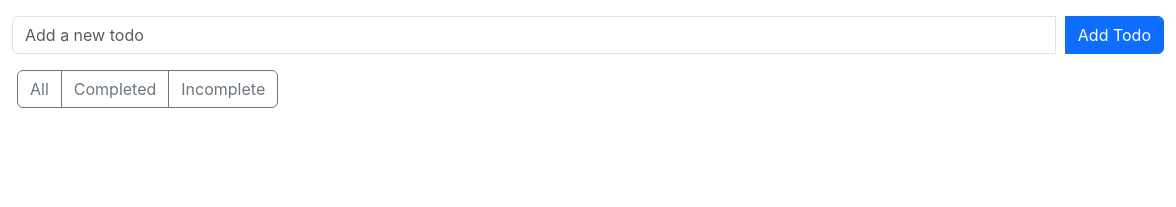
it: adds a new todo
In the field with placeholder "Add a new todo": (534, 35) [12, 16, 1056, 54], type "New Todo"
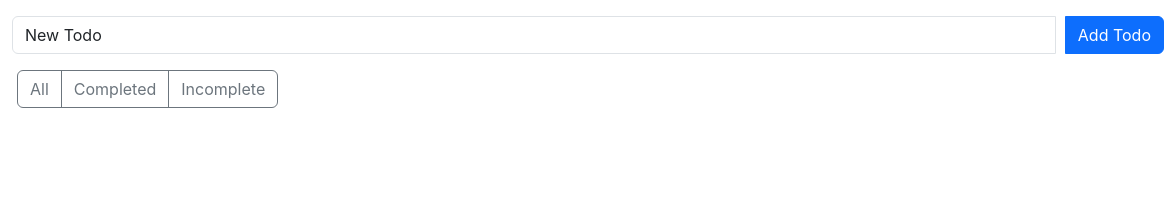
Click the button "Add Todo": (1114, 35) [1065, 16, 1164, 54]
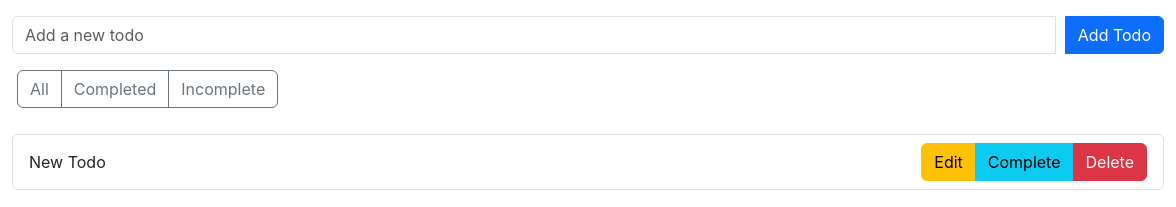
Expected: the text "New Todo" is shown, [29, 150, 106, 174]
